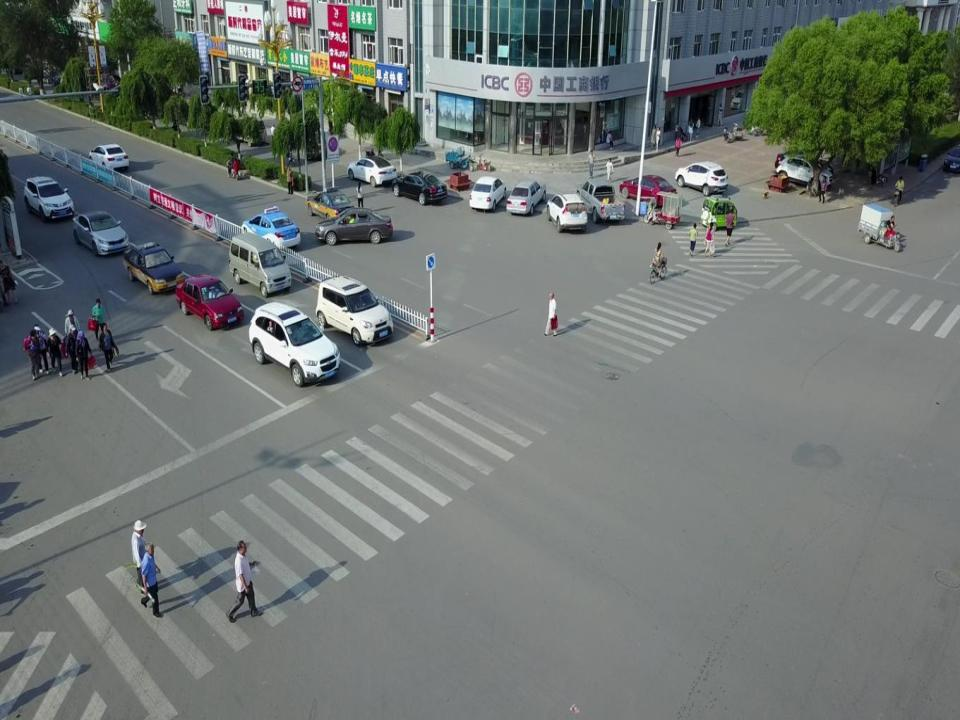car: (249, 300, 334, 387), (313, 276, 396, 346), (175, 275, 244, 332), (314, 206, 394, 246), (122, 241, 180, 294), (71, 206, 129, 257), (242, 205, 302, 247), (22, 172, 73, 218), (577, 177, 625, 225), (391, 170, 448, 206), (776, 152, 832, 188), (675, 159, 728, 196), (620, 175, 676, 207), (546, 192, 588, 232), (506, 179, 549, 217), (346, 154, 396, 186), (307, 188, 355, 220), (468, 175, 506, 212), (88, 143, 128, 170), (231, 117, 266, 143), (944, 146, 960, 173)
van: (228, 234, 292, 294)
